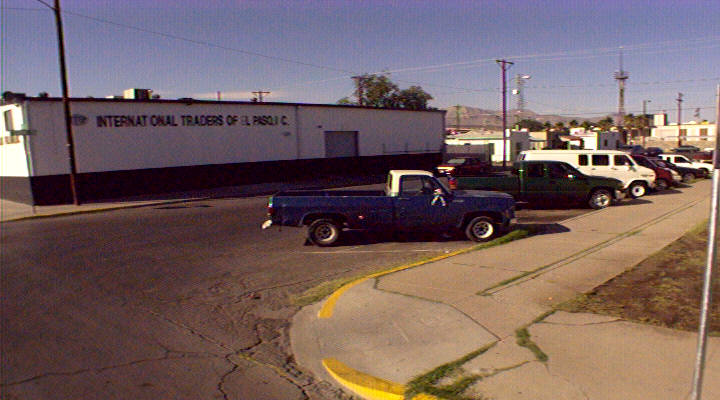Ramp: (282, 271, 504, 400)
